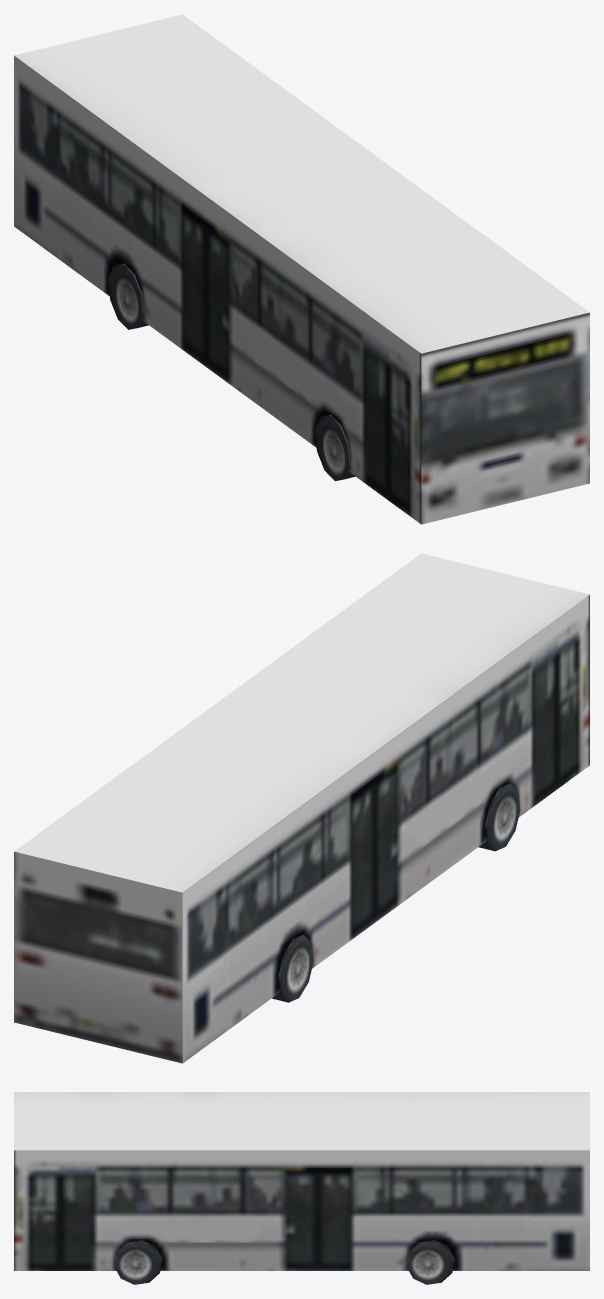
Rendered from bus.glb.
The picture shows the model from 3 angles, top to bottom: view 1: azimuth 30°, elevation 25°; view 2: azimuth 150°, elevation 25°; view 3: azimuth 270°, elevation 25°; orthographic projection. The views are drawn at different scales.
Visible parts, largest first — view 1: body; view 2: body; view 3: body.
Part boxes in pixels (box(x1,y1,x2,y2)): body: box(14, 14, 589, 524); body: box(14, 553, 589, 1063); body: box(14, 1092, 589, 1284).
Bounding box in the file's own units: 2.55 × 2.69 × 10.48.
Materials: 1 (1 with a texture image).
